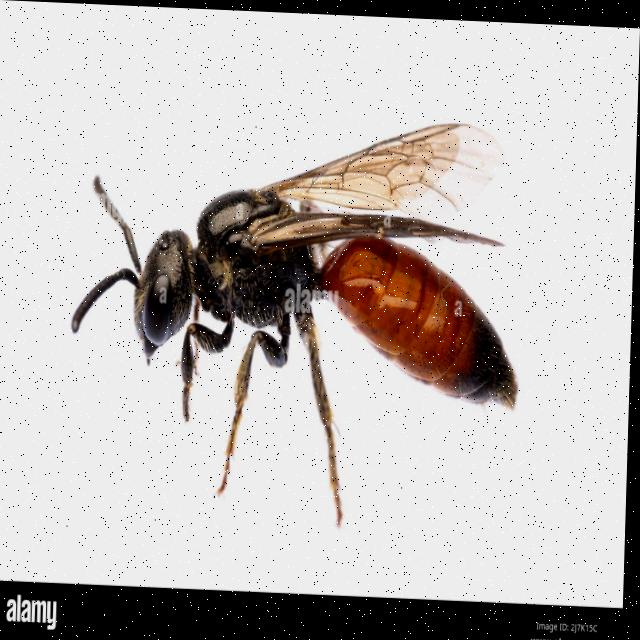Allodapula: (63, 83, 545, 546)
